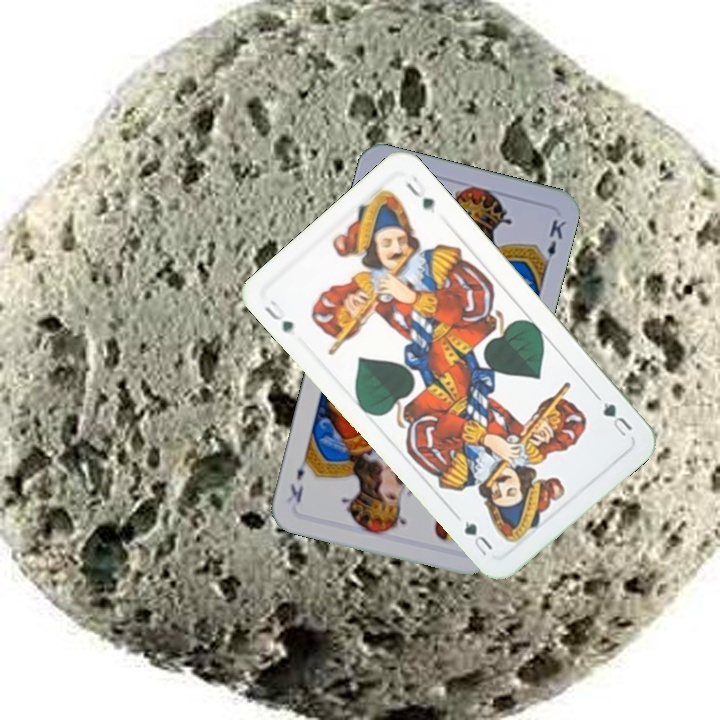GU: (592, 391, 635, 439), (260, 296, 296, 337)
